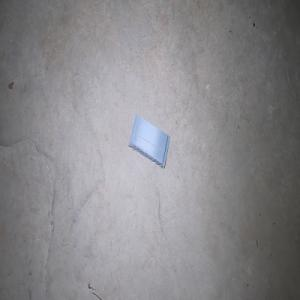PlasticPart: (127, 114, 170, 169)
